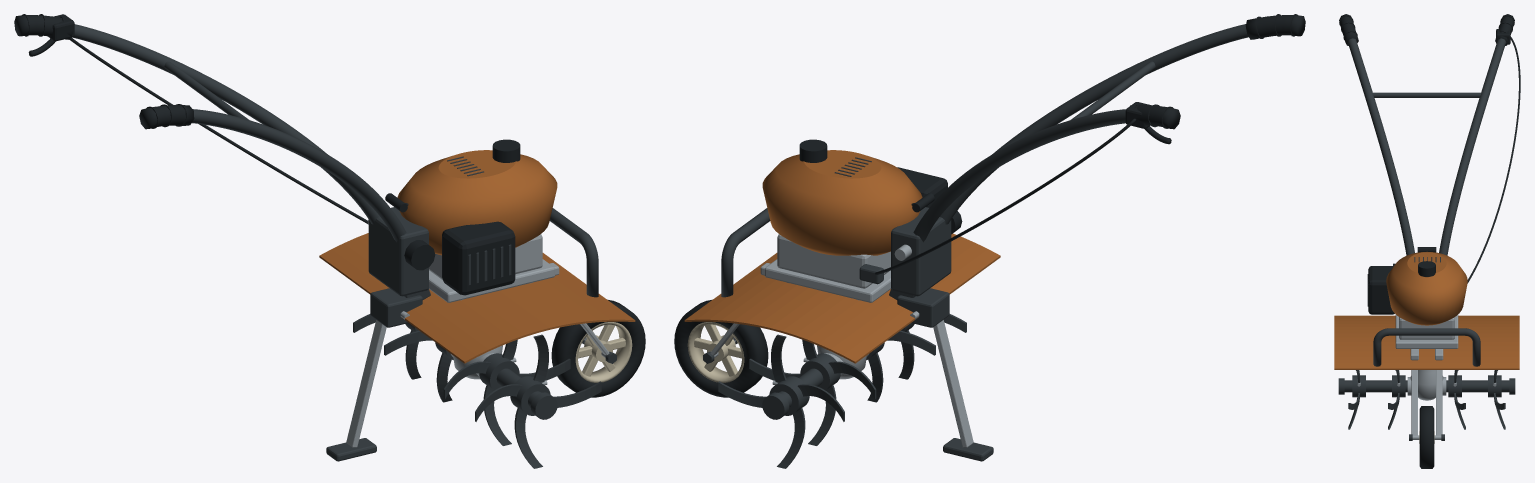
The picture shows the model from 3 angles, left to right: view 1: azimuth 30°, elevation 25°; view 2: azimuth 150°, elevation 25°; view 3: azimuth 270°, elevation 25°; orthographic projection. The views are drawn at different scales.
Visible parts, largest first — view 1: Curved full width tine fender, Rounded engine cowl, Dark side air filter housing, Rising tubular handlebar 1, Rising tubular handlebar -1, Handle folding hinge block, Transport rubber tire, Rear depth bar, Rear depth bar clamp, Engine base plate, Forward carry bumper loop, External control cable (+10 smaller); view 2: Rounded engine cowl, Curved full width tine fender, Rising tubular handlebar -1, Rising tubular handlebar 1, Handle folding hinge block, Transport rubber tire, Generic lower engine block, Engine base plate, Rear depth bar, Rear depth bar clamp, Forward carry bumper loop, Textured handgrip -1 (+9 smaller); view 3: Curved full width tine fender, Rounded engine cowl, Rising tubular handlebar -1, Rising tubular handlebar 1, Forward carry bumper loop, Dark side air filter housing, Transport rubber tire, Transverse tine axle, Engine base plate, Generic lower engine block, Handlebar transverse brace, External control cable (+10 smaller).
Boxes of the visible parts, bbox=[...] form: Curved full width tine fender: bbox=[319, 233, 635, 363]; Rounded engine cowl: bbox=[397, 150, 557, 255]; Dark side air filter housing: bbox=[442, 221, 515, 295]; Rising tubular handlebar 1: bbox=[72, 24, 379, 224]; Rising tubular handlebar -1: bbox=[192, 109, 406, 242]; Handle folding hinge block: bbox=[368, 207, 428, 296]; Transport rubber tire: bbox=[551, 299, 645, 397]; Rear depth bar: bbox=[346, 320, 386, 447]; Rear depth bar clamp: bbox=[370, 288, 422, 327]; Engine base plate: bbox=[429, 259, 554, 302]; Forward carry bumper loop: bbox=[549, 208, 598, 297]; External control cable: bbox=[69, 37, 367, 223]; Rounded engine cowl: bbox=[762, 150, 922, 255]; Curved full width tine fender: bbox=[684, 233, 1000, 363]; Rising tubular handlebar -1: bbox=[940, 24, 1248, 224]; Rising tubular handlebar 1: bbox=[913, 109, 1125, 242]; Handle folding hinge block: bbox=[891, 207, 951, 296]; Transport rubber tire: bbox=[674, 299, 768, 397]; Generic lower engine block: bbox=[777, 234, 890, 288]; Engine base plate: bbox=[765, 259, 890, 302]; Rear depth bar: bbox=[933, 320, 973, 447]; Rear depth bar clamp: bbox=[897, 288, 949, 327]; Forward carry bumper loop: bbox=[721, 208, 770, 297]; Textured handgrip -1: bbox=[1245, 15, 1305, 39]; Curved full width tine fender: bbox=[1334, 315, 1519, 369]; Rounded engine cowl: bbox=[1386, 251, 1467, 325]; Rising tubular handlebar -1: bbox=[1347, 38, 1414, 255]; Rising tubular handlebar 1: bbox=[1439, 38, 1506, 255]; Forward carry bumper loop: bbox=[1373, 328, 1480, 366]; Dark side air filter housing: bbox=[1368, 266, 1394, 314]; Transport rubber tire: bbox=[1419, 406, 1434, 468]; Transverse tine axle: bbox=[1344, 380, 1509, 392]; Engine base plate: bbox=[1395, 314, 1458, 348]; Generic lower engine block: bbox=[1399, 317, 1454, 339]; Handlebar transverse brace: bbox=[1372, 92, 1481, 97]; External control cable: bbox=[1467, 36, 1520, 283].
Size of the model in its own units: 125 by 97.13 by 56.3.
